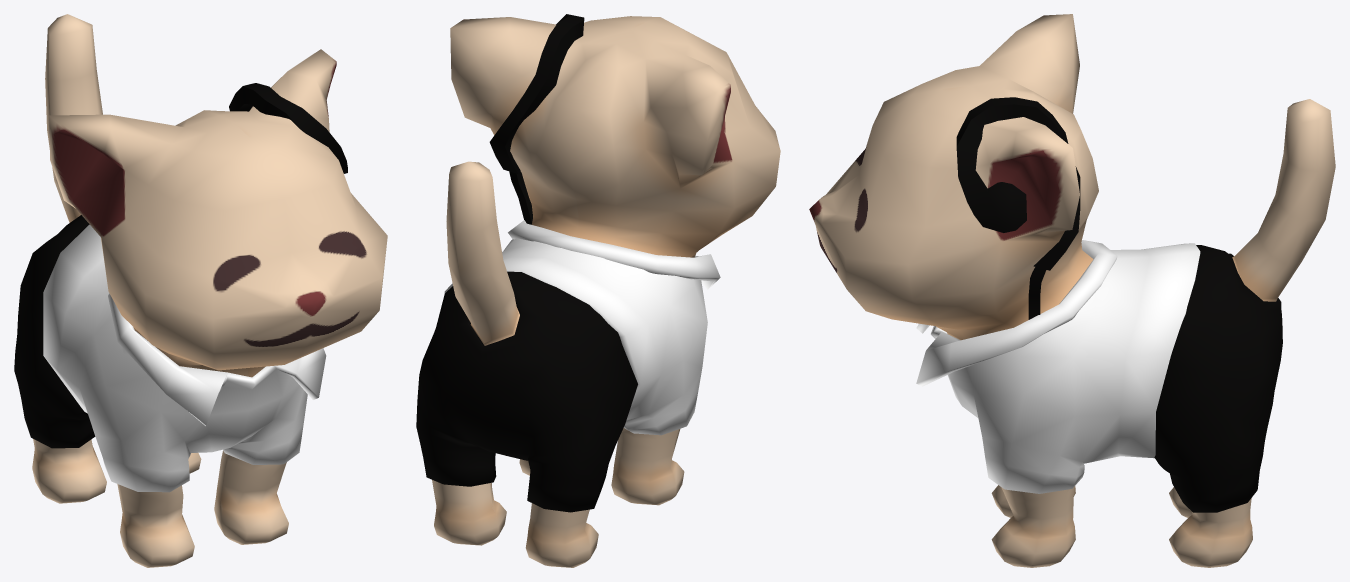
File: Security Cat01.fbx
3 views of the same model, side by side, from view 1: azimuth 30°, elevation 25°; view 2: azimuth 150°, elevation 25°; view 3: azimuth 270°, elevation 25° (orthographic). The views are drawn at different scales.
Visible parts, largest first — view 1: Cat_Base, Security_Cat_Shirt, Security_Cat_Shorts, Security_Cat_Earpiece; view 2: Cat_Base, Security_Cat_Shorts, Security_Cat_Shirt, Security_Cat_Earpiece; view 3: Cat_Base, Security_Cat_Shirt, Security_Cat_Shorts, Security_Cat_Earpiece.
Part boxes in pixels (x1,y1,x2,y2): Cat_Base: (32,14,387,567); Security_Cat_Shirt: (43,224,326,492); Security_Cat_Shorts: (14,215,95,448); Security_Cat_Earpiece: (229,83,347,173); Cat_Base: (432,16,780,567); Security_Cat_Shorts: (416,271,637,512); Security_Cat_Shirt: (444,220,720,435); Security_Cat_Earpiece: (489,14,584,224); Cat_Base: (809,14,1335,567); Security_Cat_Shirt: (916,240,1200,493); Security_Cat_Shorts: (1154,245,1282,512); Security_Cat_Earpiece: (956,97,1080,319).
Size of the model in its own units: 1.75 by 2.83 by 2.71.
Materials: 3 (1 with a texture image).
